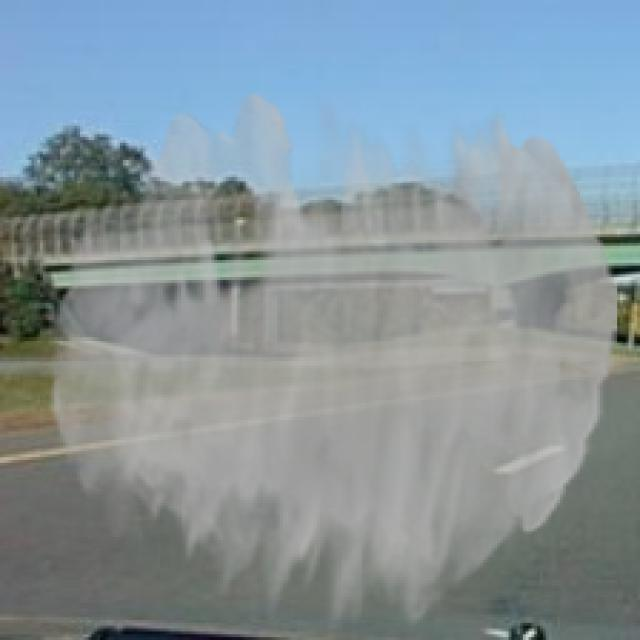smoke: (49, 94, 617, 632)
